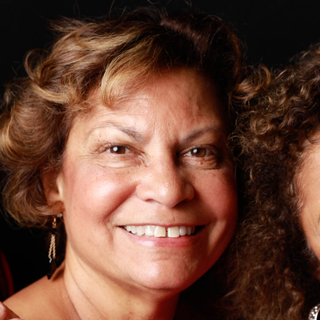eye: (95, 138, 145, 163), (177, 141, 220, 164)
